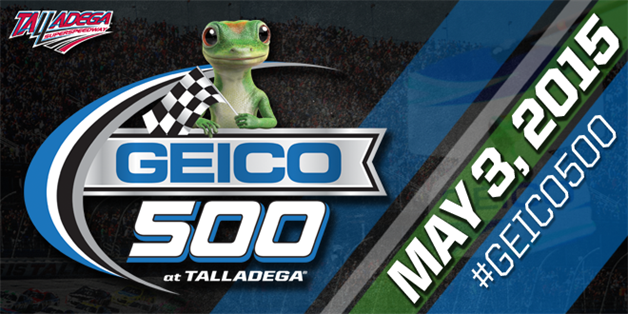Geico: (114, 140, 346, 184)
